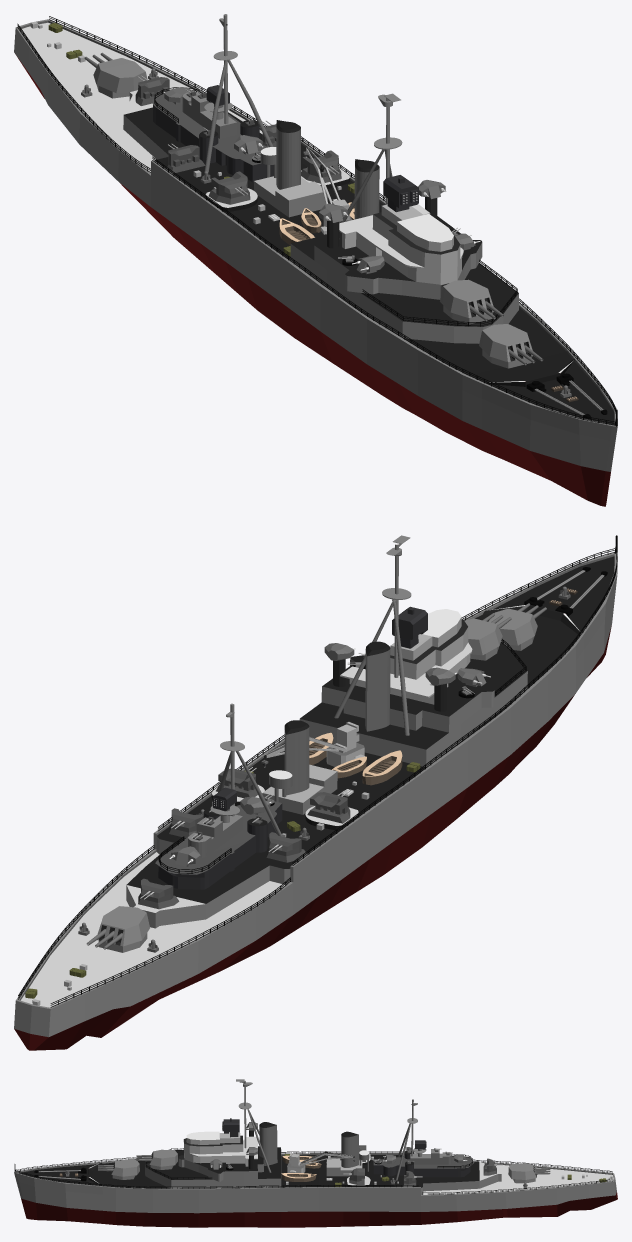
File: Cruiser.fbx
The picture shows the model from 3 angles, top to bottom: view 1: azimuth 30°, elevation 25°; view 2: azimuth 150°, elevation 25°; view 3: azimuth 270°, elevation 25°; orthographic projection. The views are drawn at different scales.
Visible parts, largest first — view 1: ShipBase, Cube.012, LargeCannon.002, LargeCannon.001, LargeCannon.003, Cylinder.002, Cube.008, Cube.007, Cube.005, 6mm Turret 3, Cube.015, Cube.004 (+1 smaller); view 2: ShipBase, Cube.012, LargeCannon.003, Cylinder.002, Cube.015, LargeCannon.002, LargeCannon.001, Cube.008, Boat1.001, Cube.004, Cube.005, 6mm Turret 3 (+3 smaller); view 3: ShipBase, Cube.012, Cube.015, LargeCannon.003, LargeCannon.001, LargeCannon.002, Cylinder.002, Boat1.002, Cube.007, FrontDeco.
Boxes of the visible parts, x1,y1,x2,y2 form: ShipBase: (14,14,617,506); Cube.012: (17,16,617,426); LargeCannon.002: (479,324,532,368); LargeCannon.001: (440,279,493,324); LargeCannon.003: (93,58,147,98); Cylinder.002: (204,60,392,222); Cube.008: (208,171,250,204); Cube.007: (301,150,341,183); Cube.005: (165,143,205,173); 6mm Turret 3: (319,203,348,248); Cube.015: (303,146,352,234); Cube.004: (135,75,169,105); ShipBase: (14,535,617,1050); Cube.012: (18,535,617,1007); LargeCannon.003: (97,906,149,952); Cylinder.002: (218,601,409,836); Cube.015: (261,722,365,767); LargeCannon.002: (488,608,537,650); LargeCannon.001: (464,618,502,660); Cube.008: (307,790,350,823); Boat1.001: (362,750,402,785); Cube.004: (138,878,179,909); Cube.005: (266,832,306,862); 6mm Turret 3: (425,667,456,711); ShipBase: (14,1079,617,1227); Cube.012: (14,1148,612,1194); Cube.015: (287,1151,355,1172); LargeCannon.003: (508,1163,536,1183); LargeCannon.001: (149,1149,177,1169); LargeCannon.002: (111,1159,139,1179); Cylinder.002: (247,1109,410,1180); Boat1.002: (281,1173,316,1181); Cube.007: (343,1168,364,1184); FrontDeco: (34,1167,86,1181).
Bounding box in the file's own units: 218 × 394 × 1583.
2 materials, 1 textured.
